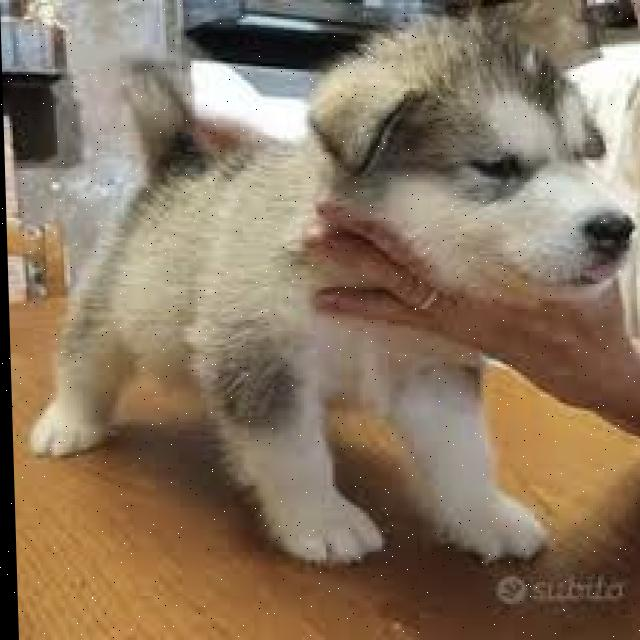ALASKAN_MALAMUTE: (20, 6, 640, 583)
